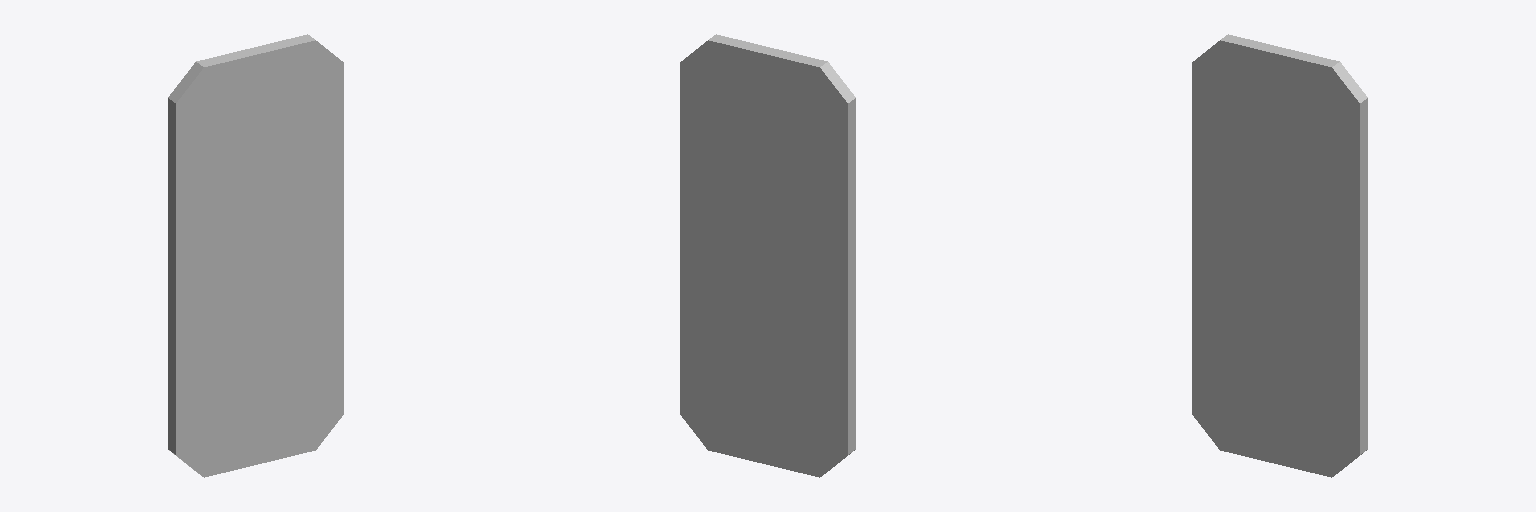
File: box_android_lid.obj
The picture shows the model from 3 angles: view 1: azimuth 30°, elevation 25°; view 2: azimuth 150°, elevation 25°; view 3: azimuth 330°, elevation 25°; orthographic projection.
Parts seen in each view (by area): view 1: Cube; view 2: Cube; view 3: Cube.
Boxes of the visible parts, x1,y1,x2,y2 form: Cube: [168, 34, 343, 477]; Cube: [680, 34, 855, 477]; Cube: [1192, 34, 1367, 477].
Size of the model in its own units: 1.2 by 2.8 by 0.1.